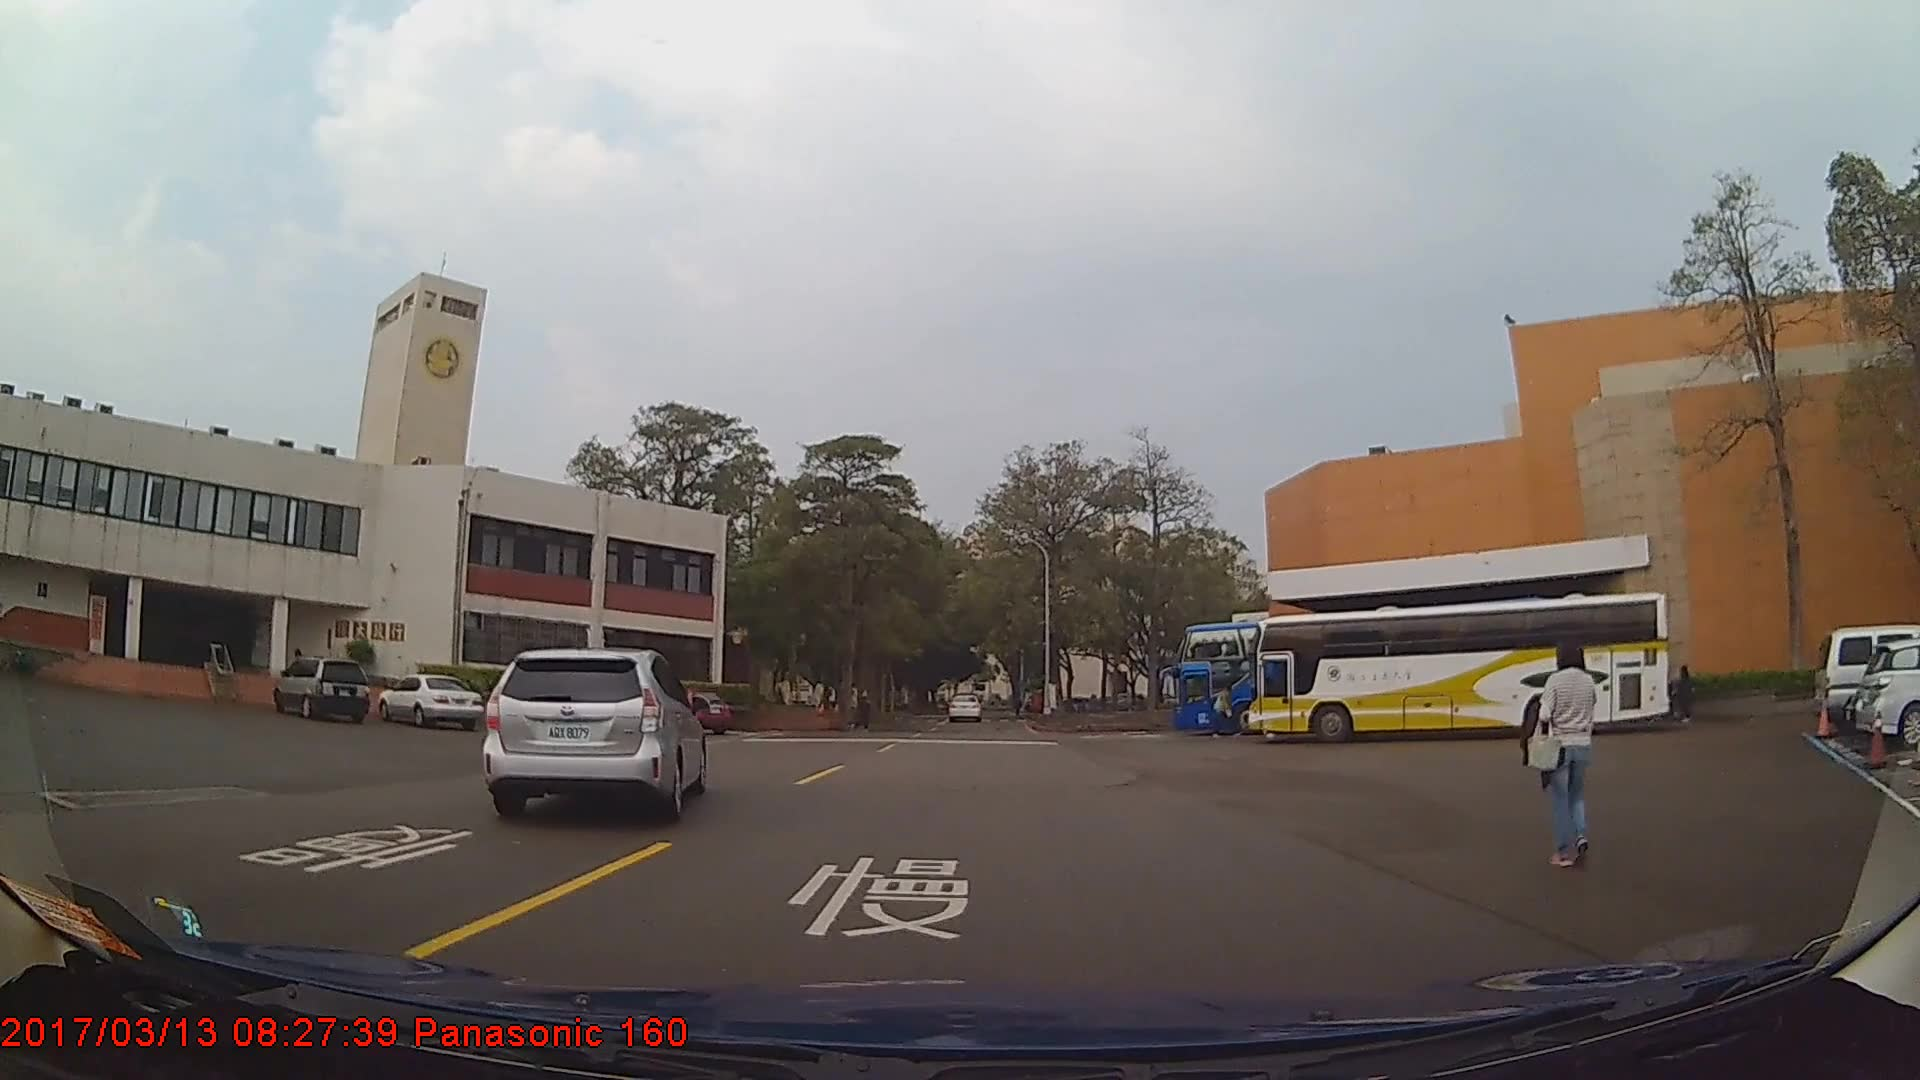pedestrian: (1525, 642, 1602, 867), (1668, 659, 1709, 731), (849, 684, 875, 735)
vehicle: (1245, 591, 1673, 748), (1170, 618, 1535, 740), (479, 646, 706, 818), (1812, 625, 1920, 732), (1854, 636, 1920, 748), (268, 655, 370, 720), (374, 672, 481, 726), (948, 693, 982, 723)
